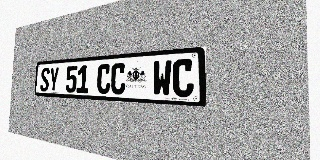1: (76, 65, 89, 93)
5: (66, 66, 77, 93)
C: (172, 58, 194, 97), (110, 63, 126, 95), (97, 64, 111, 94)
S: (40, 67, 50, 92)
W: (152, 60, 172, 97)
Y: (49, 67, 59, 92)
